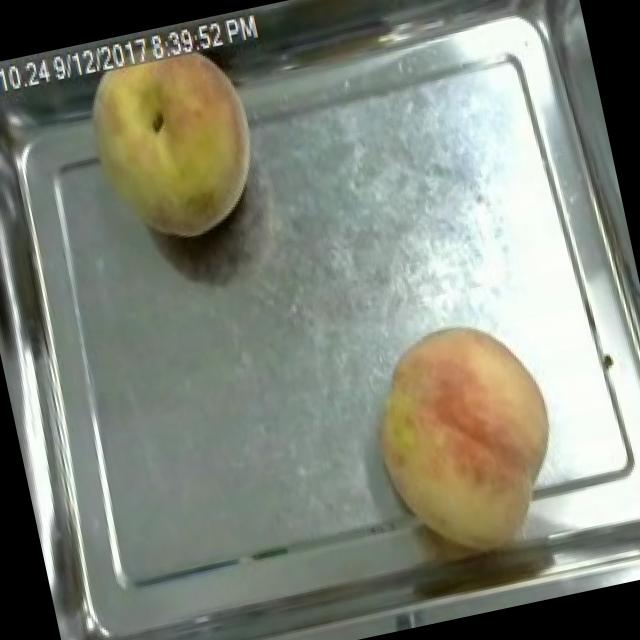Fruit: (346, 302, 582, 570), (63, 18, 280, 262)
